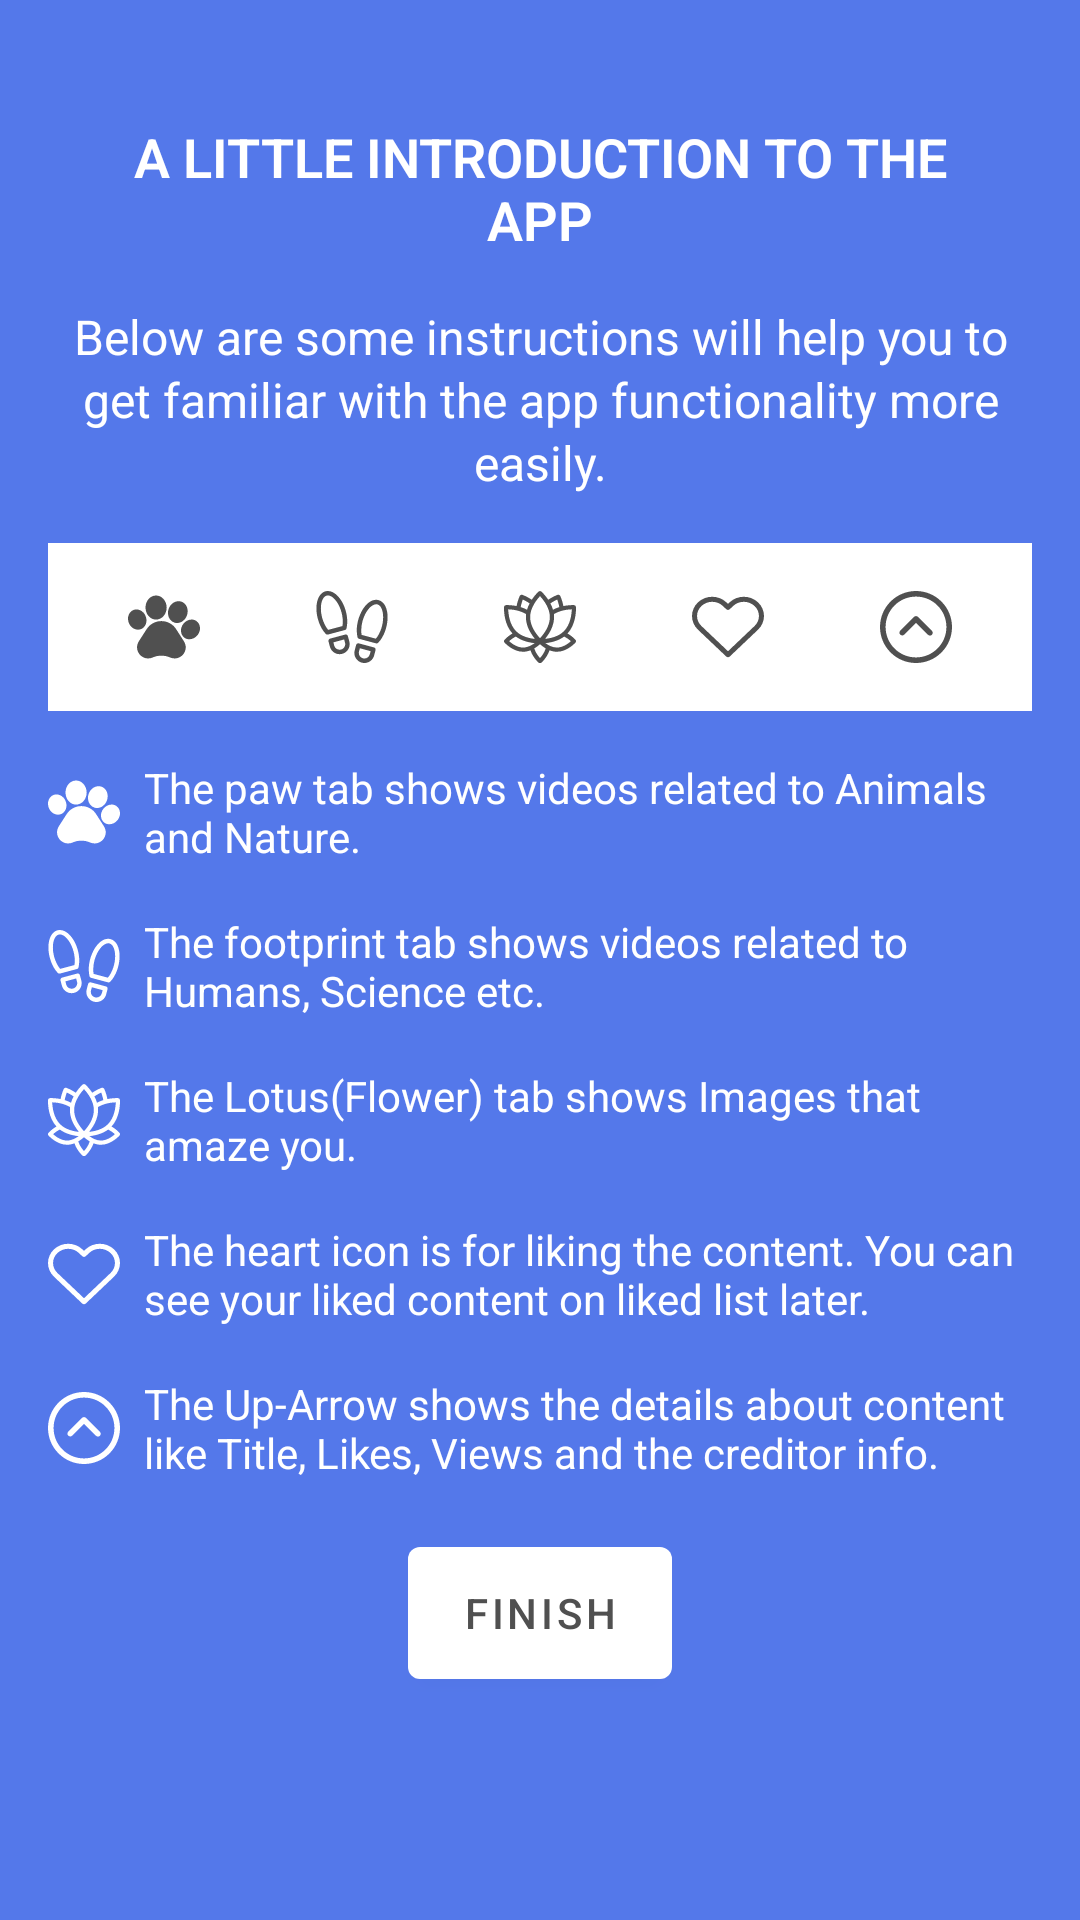

Named icons in this screenshot (1080*1920) and their centers, point (x, y):
footprints: point (352, 627)
lotus: point (540, 627)
love: point (728, 626)
pawprint: point (164, 627)
up arrow: point (916, 627)
